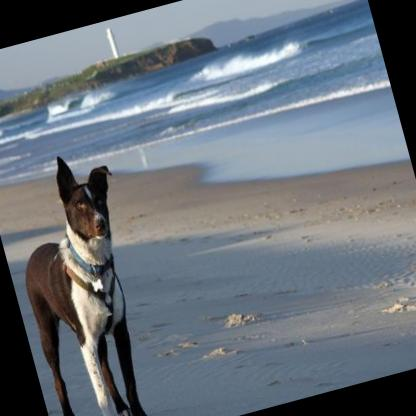kelpie: (0, 142, 176, 416)
